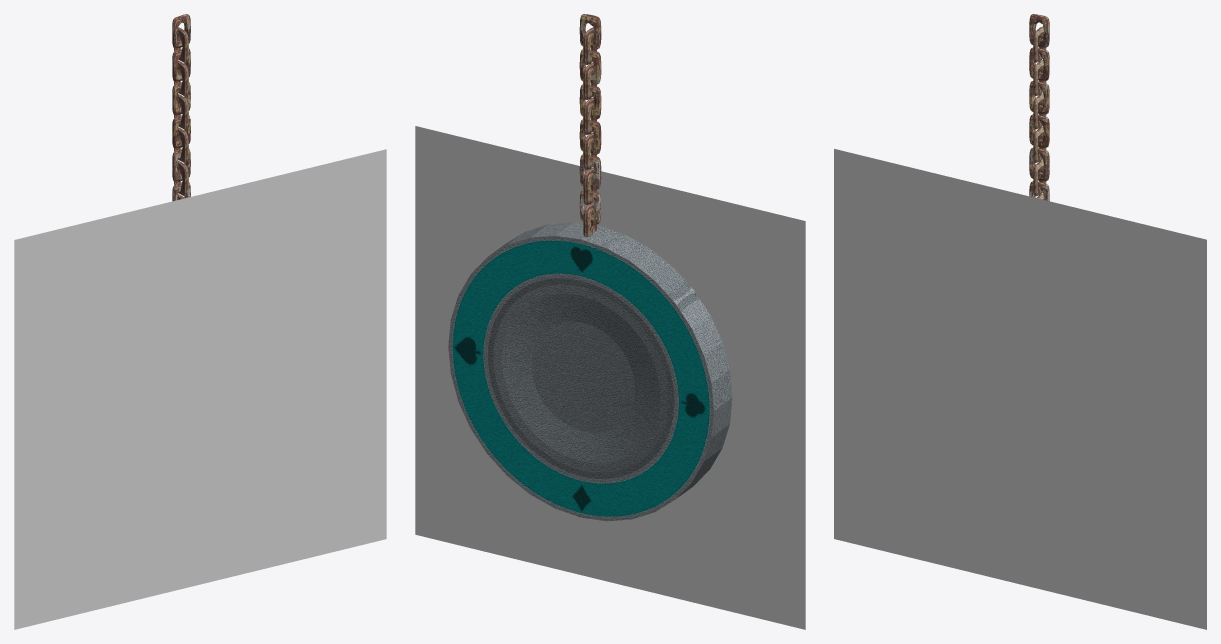
The model's file is Chip.fbx.
3 views of the same model, side by side, from view 1: azimuth 30°, elevation 25°; view 2: azimuth 150°, elevation 25°; view 3: azimuth 330°, elevation 25° (orthographic). The views are drawn at different scales.
Visible parts, largest first — view 1: Plane, Cube.001, Cube; view 2: Plane, Circle, Cube.001, Cube; view 3: Plane, Cube.001, Cube.
Part boxes in pixels (box(x1,y1,x2,y2)): Plane: box(14, 149, 386, 629); Cube.001: box(172, 14, 190, 201); Cube: box(174, 27, 188, 199); Plane: box(415, 126, 805, 629); Circle: box(448, 222, 732, 521); Cube.001: box(579, 14, 601, 224); Cube: box(583, 27, 597, 236); Plane: box(834, 149, 1206, 629); Cube.001: box(1029, 14, 1049, 201); Cube: box(1033, 26, 1046, 199).
Bounding box in the file's own units: 294 × 418 × 38.22.
3 materials, 3 textured.
